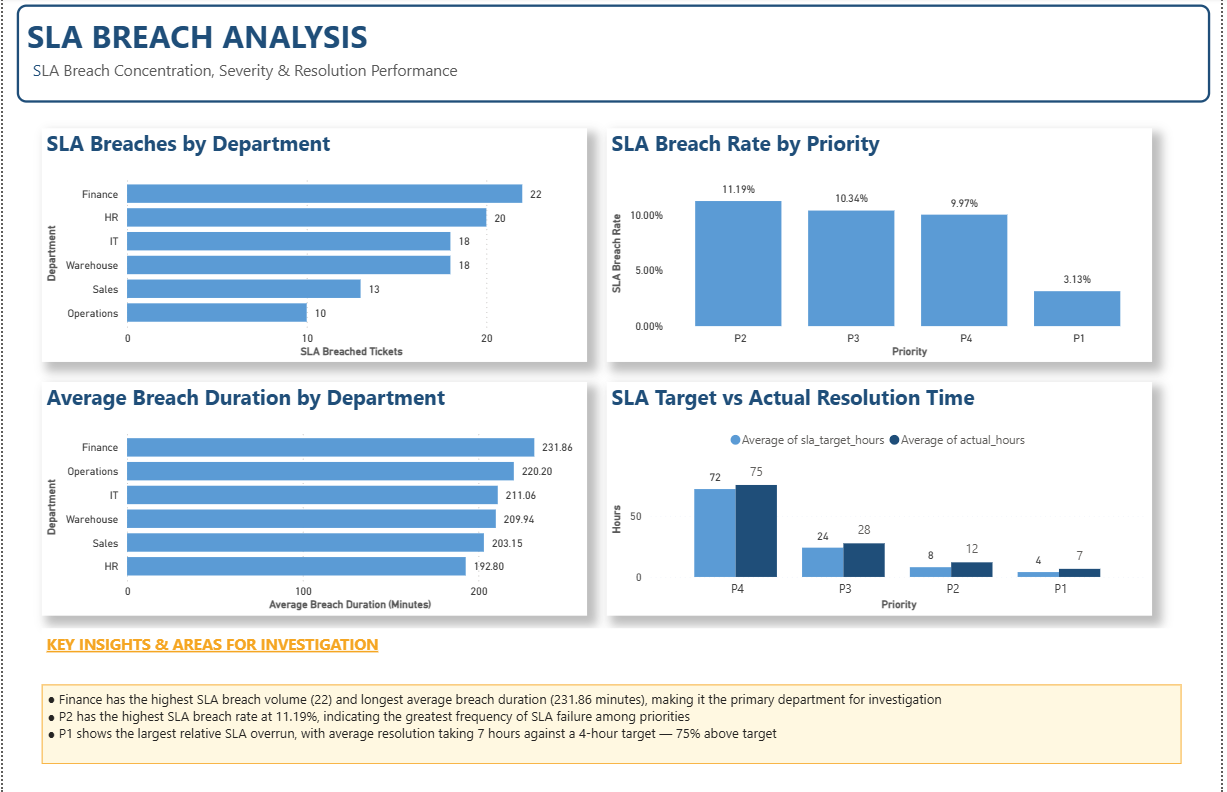

Layout of this report page (visuals, bound fields, positions):
{"tool":"powerbi","page":{"name":"SLA Analysis","canvas":[1250,820],"ordinal":1},"visuals":[{"type":"clusteredBarChart","title":"SLA Breaches by Department","fields":{"Category":["operations_sla tickets.requester_department"],"Y":["Count(operations_sla sla_breaches.ticket_id)"]},"box":[40,135,560,240],"z":0},{"type":"clusteredColumnChart","title":"SLA Breach Rate by Priority","fields":{"Category":["operations_sla tickets.priority"],"Y":["operations_sla tickets.SLA Breach rate"]},"box":[620,135,560,240],"z":1000},{"type":"clusteredBarChart","title":"Average Breach Duration by Department","fields":{"Category":["operations_sla tickets.requester_department"],"Y":["Avg(operations_sla sla_breaches.breach_minutes)"]},"box":[40,395,560,240],"z":2000},{"type":"clusteredColumnChart","title":"SLA Target vs Actual Resolution Time","fields":{"Category":["operations_sla tickets.priority"],"Y":["Avg(operations_sla sla_breaches.sla_target_hours)","Avg(operations_sla sla_breaches.actual_hours)"]},"box":[620,395,560,240],"z":3000},{"type":"textbox","box":[14.6,7.9,1225.4,100.7],"z":4000},{"type":"textbox","box":[25.2,59.6,744.5,39.7],"z":5000},{"type":"textbox","box":[34.9,704.3,300.3,65.2],"z":6000},{"type":"textbox","box":[40,648.6,1170,50],"z":7000},{"type":"textbox","box":[40,705.7,1170,81.4],"z":8000}]}

Visuals, with their boxes in screenshot pixels (x1, y1, x2, y2), scaled from the page's 1250x820 canvas onto the 1227x792 screenshot:
"SLA Breaches by Department" clusteredBarChart: x1=39, y1=130, x2=589, y2=362
"SLA Breach Rate by Priority" clusteredColumnChart: x1=609, y1=130, x2=1158, y2=362
"Average Breach Duration by Department" clusteredBarChart: x1=39, y1=382, x2=589, y2=613
"SLA Target vs Actual Resolution Time" clusteredColumnChart: x1=609, y1=382, x2=1158, y2=613
textbox: x1=14, y1=8, x2=1217, y2=105
textbox: x1=25, y1=58, x2=756, y2=96
textbox: x1=34, y1=680, x2=329, y2=743
textbox: x1=39, y1=626, x2=1188, y2=675
textbox: x1=39, y1=682, x2=1188, y2=760
